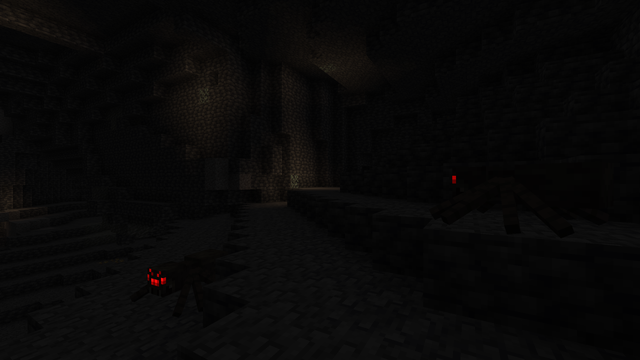araignees: (135, 245, 232, 318), (450, 156, 540, 232)
